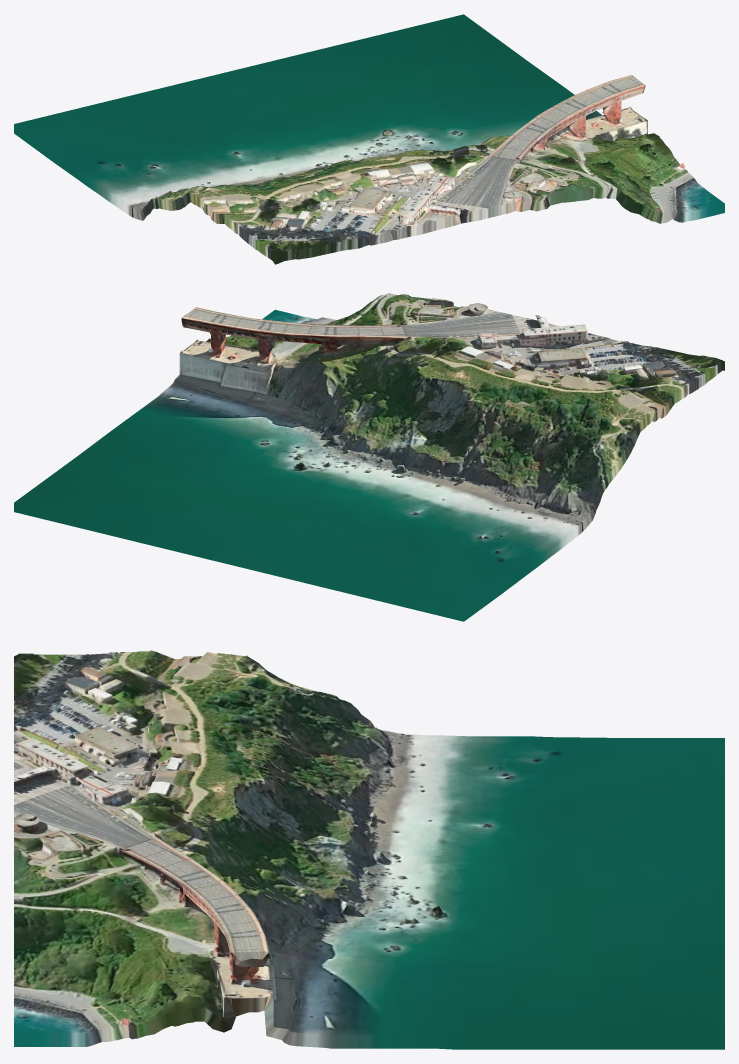
Rendered from z16-10471-25323-h0-yup-uvflip-v3-world.glb.
3 renders of one model, top to bottom at view 1: azimuth 30°, elevation 25°; view 2: azimuth 150°, elevation 25°; view 3: azimuth 270°, elevation 25°, orthographic. The views are drawn at different scales.
Bounding box in the file's own units: 483 × 76.16 × 485.
Materials: 1 (1 with a texture image).
